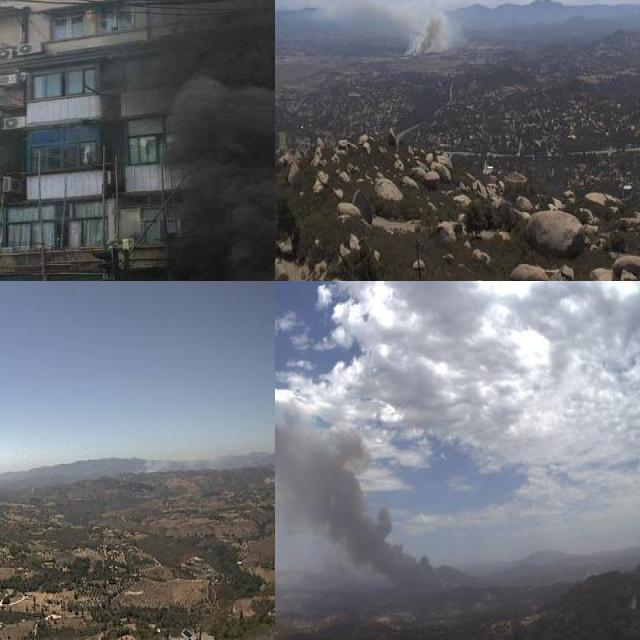smoke: (275, 387, 481, 611), (167, 0, 275, 281), (322, 0, 460, 62), (132, 442, 260, 474)
